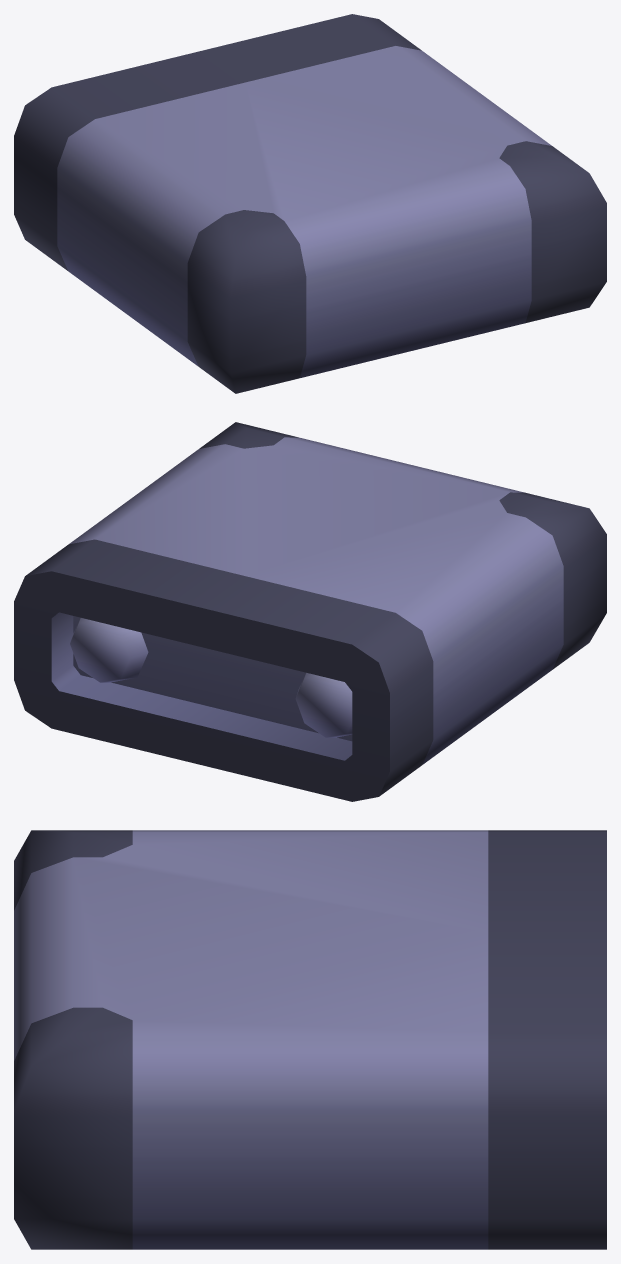
Rendered from kenney-conveyor-conveyor-stripe-junction-t.glb.
3 views of the same model, one above another, from view 1: azimuth 30°, elevation 25°; view 2: azimuth 150°, elevation 25°; view 3: azimuth 270°, elevation 25° (orthographic). The views are drawn at different scales.
Parts seen in each view (by area): view 1: conveyor-stripe-junction-t; view 2: conveyor-stripe-junction-t; view 3: conveyor-stripe-junction-t.
Part boxes in pixels (x1,y1,x2,y2): conveyor-stripe-junction-t: (14,14,606,393); conveyor-stripe-junction-t: (14,422,606,801); conveyor-stripe-junction-t: (14,830,606,1249).
Size of the model in its own units: 1 by 0.3999 by 1.
Materials: 1 (1 with a texture image).
